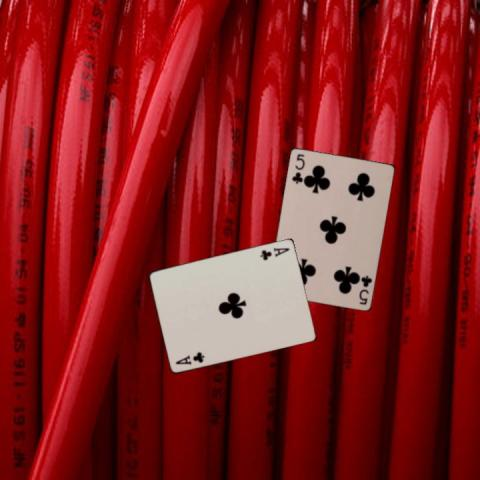5c: (356, 273, 373, 306), (289, 150, 305, 184)
Ac: (173, 349, 206, 366), (257, 245, 291, 261)
